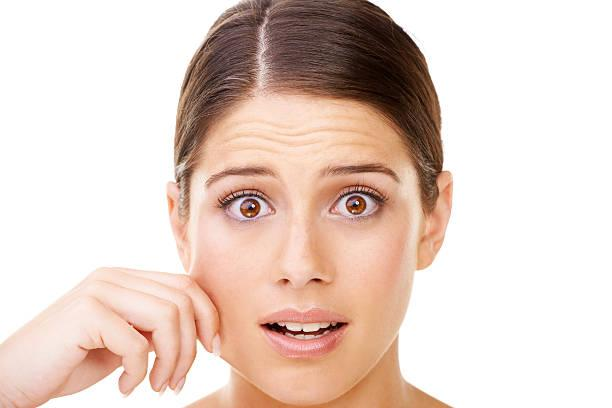Dry-Skin: (229, 112, 378, 173)
